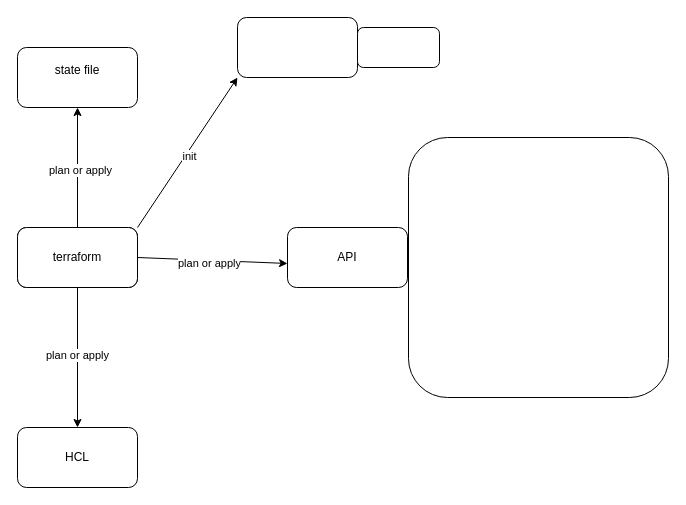
The diagram is 686 pixels wide and 505 high, and some of its shapes have lost their labels. Here are the shapes that lost their labels. From the top down, the centre of each, then its label:
At (x=297, y=47): ".terraform".
At (x=398, y=47): "provider".
At (x=538, y=267): "CLOUD".
